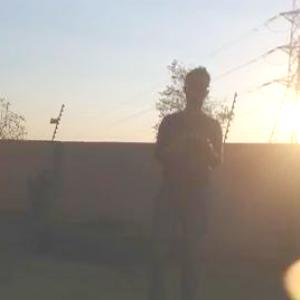follow: (131, 63, 226, 299)
